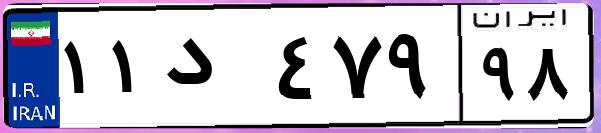1: (57, 26, 110, 100), (110, 28, 158, 98)
4: (270, 28, 330, 110)
7: (330, 28, 385, 110)
8: (525, 38, 570, 115)
9: (385, 28, 445, 110), (475, 38, 525, 113)
د: (158, 20, 270, 120)
